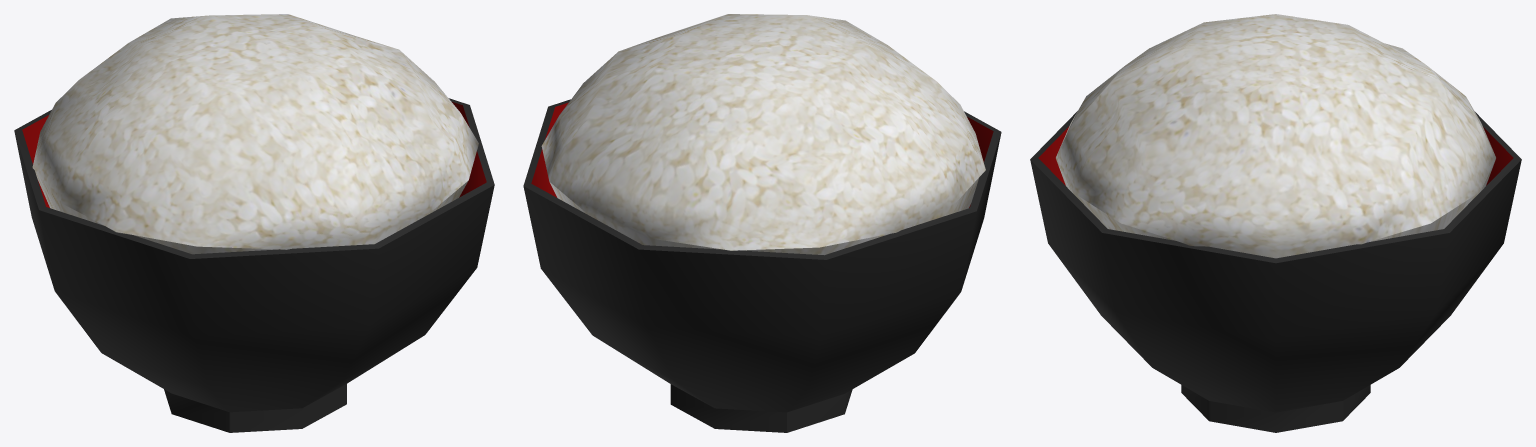
File: rice.glb
The picture shows the model from 3 angles, left to right: view 1: azimuth 30°, elevation 25°; view 2: azimuth 150°, elevation 25°; view 3: azimuth 270°, elevation 25°; orthographic projection.
Parts seen in each view (by area): view 1: Object_4, Object_2, Object_3; view 2: Object_4, Object_2, Object_3; view 3: Object_4, Object_2, Object_3.
Part boxes in pixels (box(x1,y1,x2,y2)): Object_4: box(32, 14, 478, 254); Object_2: box(14, 98, 494, 432); Object_3: box(22, 102, 486, 207); Object_4: box(541, 14, 985, 255); Object_2: box(523, 99, 1001, 432); Object_3: box(531, 102, 993, 207); Object_4: box(1056, 14, 1495, 258); Object_2: box(1030, 111, 1521, 432); Object_3: box(1038, 126, 1513, 185).
Bounding box in the file's own units: 2.07 × 1.62 × 2.07.
3 materials, 1 textured.
